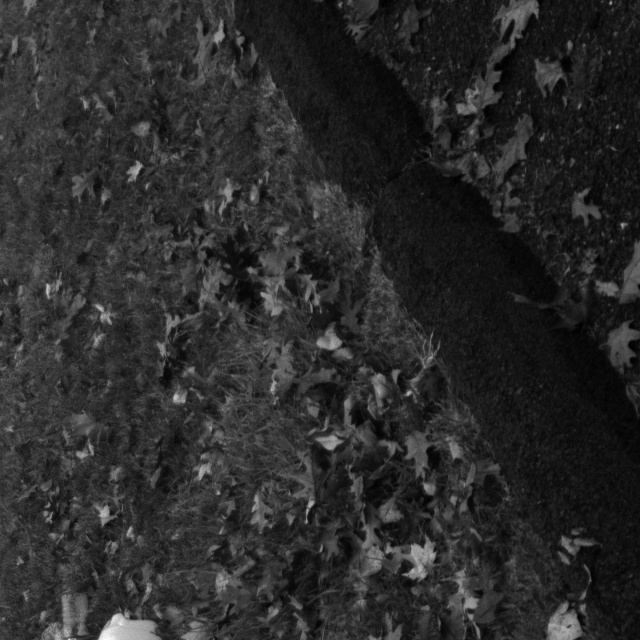bottle: (43, 573, 89, 640)
